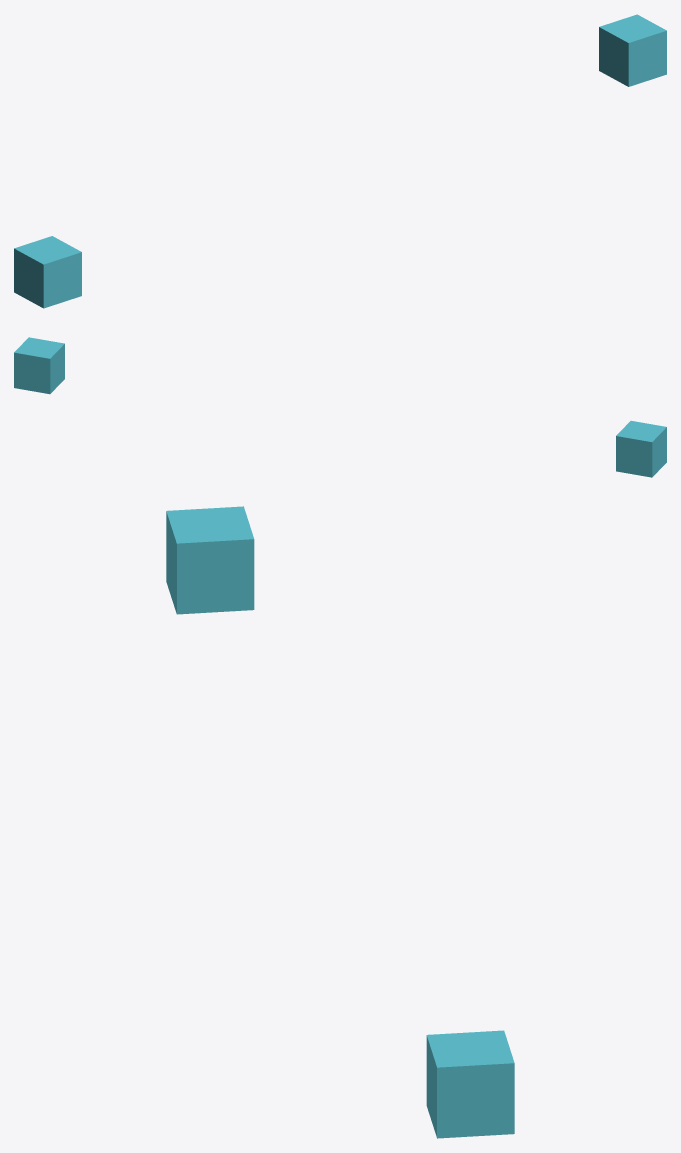
File: 129_chimney.glb
3 renders of one model, top to bottom at view 1: azimuth 30°, elevation 25°; view 2: azimuth 150°, elevation 25°; view 3: azimuth 270°, elevation 25°, orthographic. The views are drawn at different scales.
Parts seen in each view (by area): view 1: Box001, Box002; view 2: Box001, Box002; view 3: Box001, Box002.
Part boxes in pixels (<box>): Box001: <box>599,14,666,86</box>; Box002: <box>14,236,81,308</box>; Box001: <box>14,337,64,394</box>; Box002: <box>616,420,666,477</box>; Box001: <box>426,1030,514,1138</box>; Box002: <box>166,506,254,614</box>.
Bounding box in the file's own units: 14.1 × 0.8302 × 3.7.
